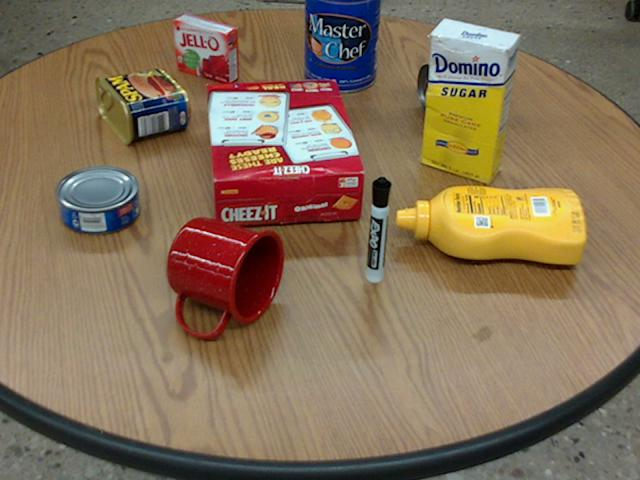cracker_box: (204, 79, 364, 226)
gelatin_box: (173, 13, 238, 82)
large_marker: (365, 176, 390, 282)
master_chef_can: (304, 0, 380, 91)
mug: (164, 218, 282, 336)
mustard_bottle: (396, 185, 584, 263)
potted_meat_can: (95, 68, 188, 142)
sugar_box: (422, 18, 519, 183)
tomato_soup_can: (417, 53, 508, 114)
tuna_fish_can: (55, 165, 138, 233)
